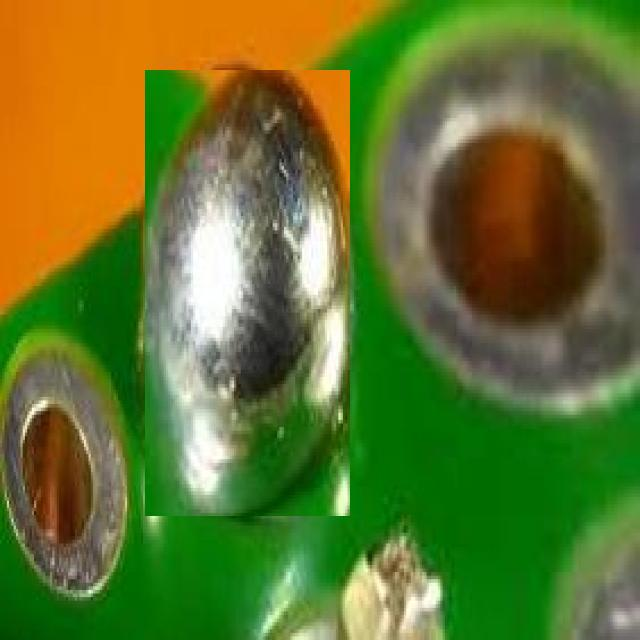redundant: (145, 71, 350, 515)
